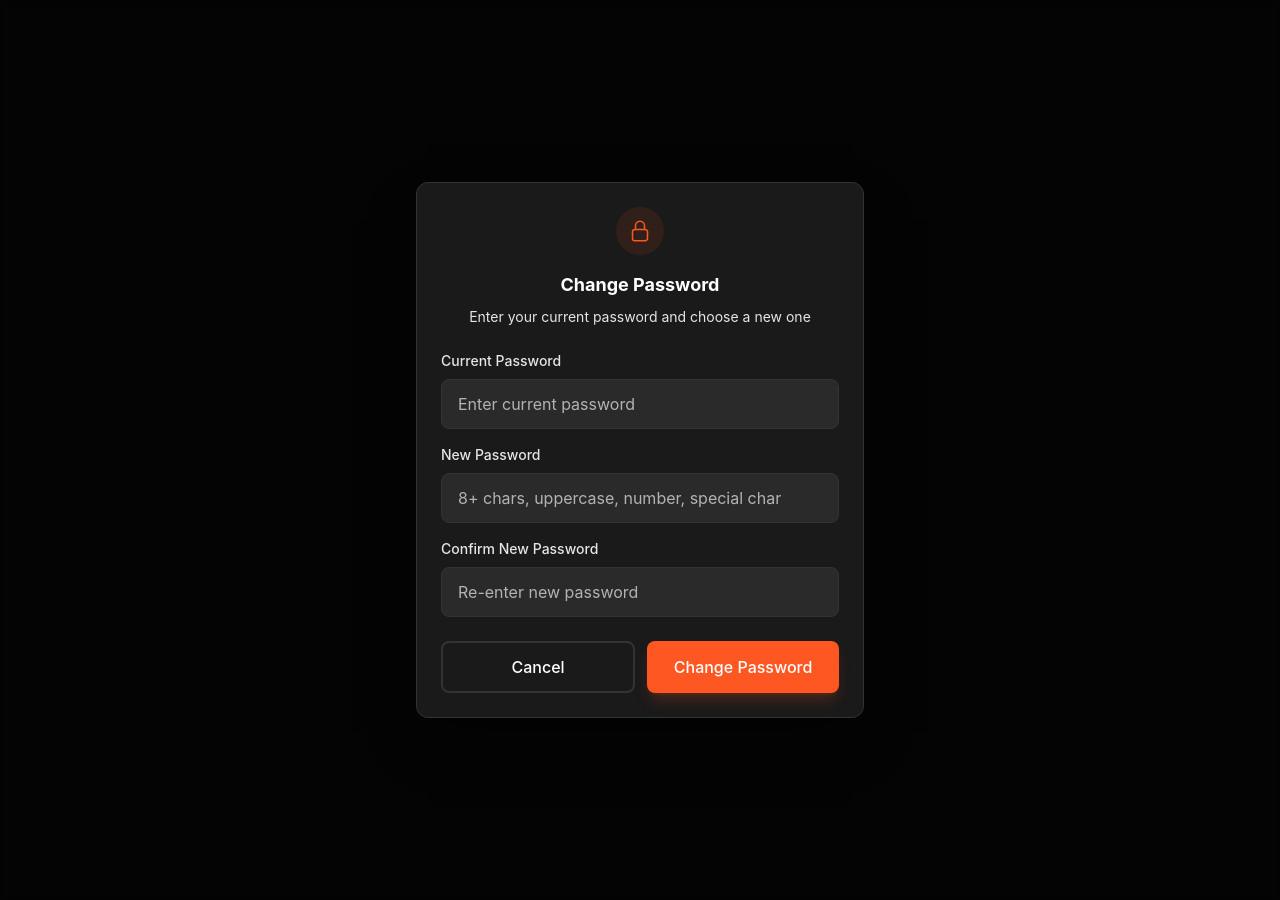
Test: ChangePasswordModal › shows validation error for password without uppercase
Step 1. Type "Password123!" into the password field labelled "Current Password" → (640, 404), box x1=441 y1=379 x2=839 y2=429
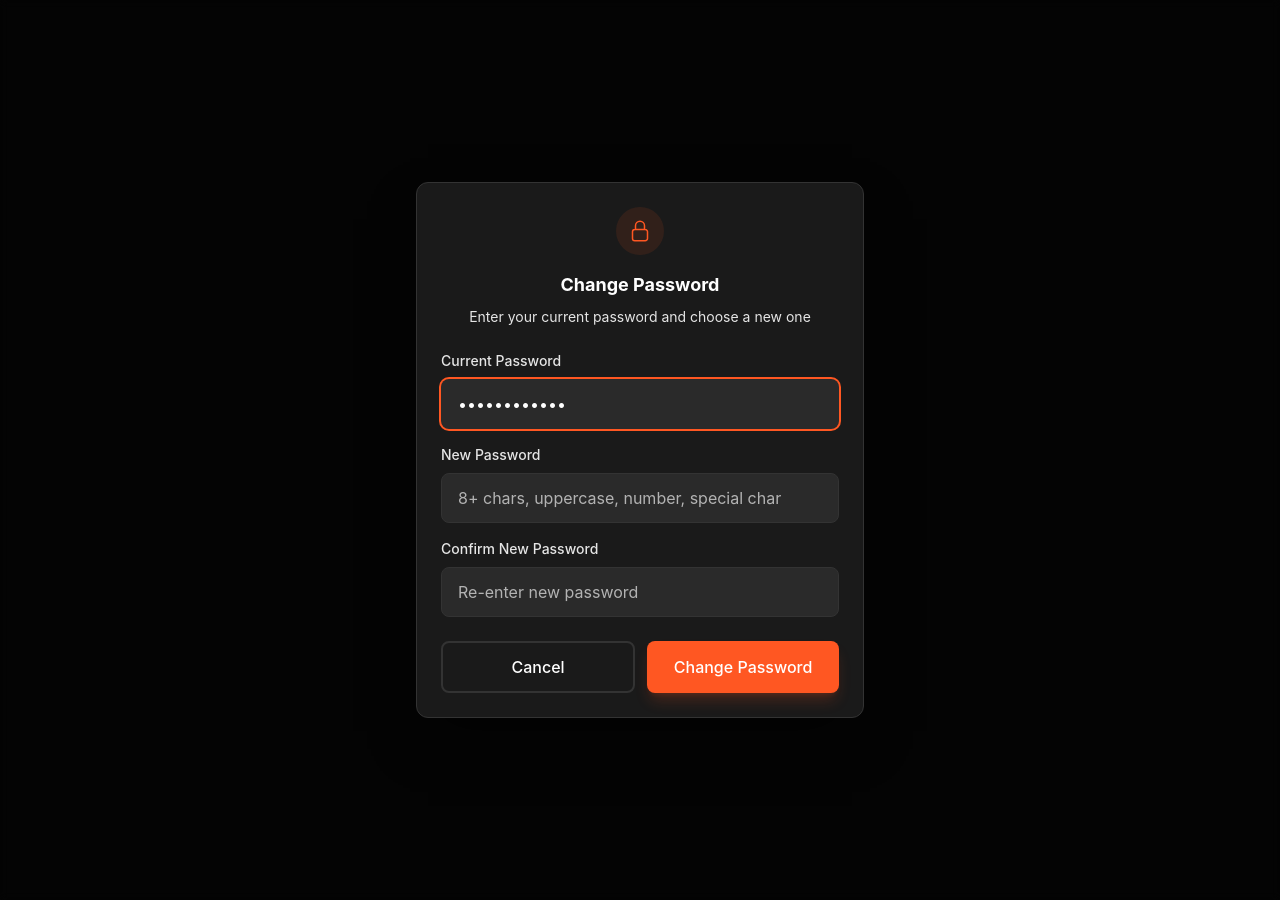
Step 2. Type "newpassword123!" into the password field labelled "New Password" → (640, 498), box x1=441 y1=473 x2=839 y2=523
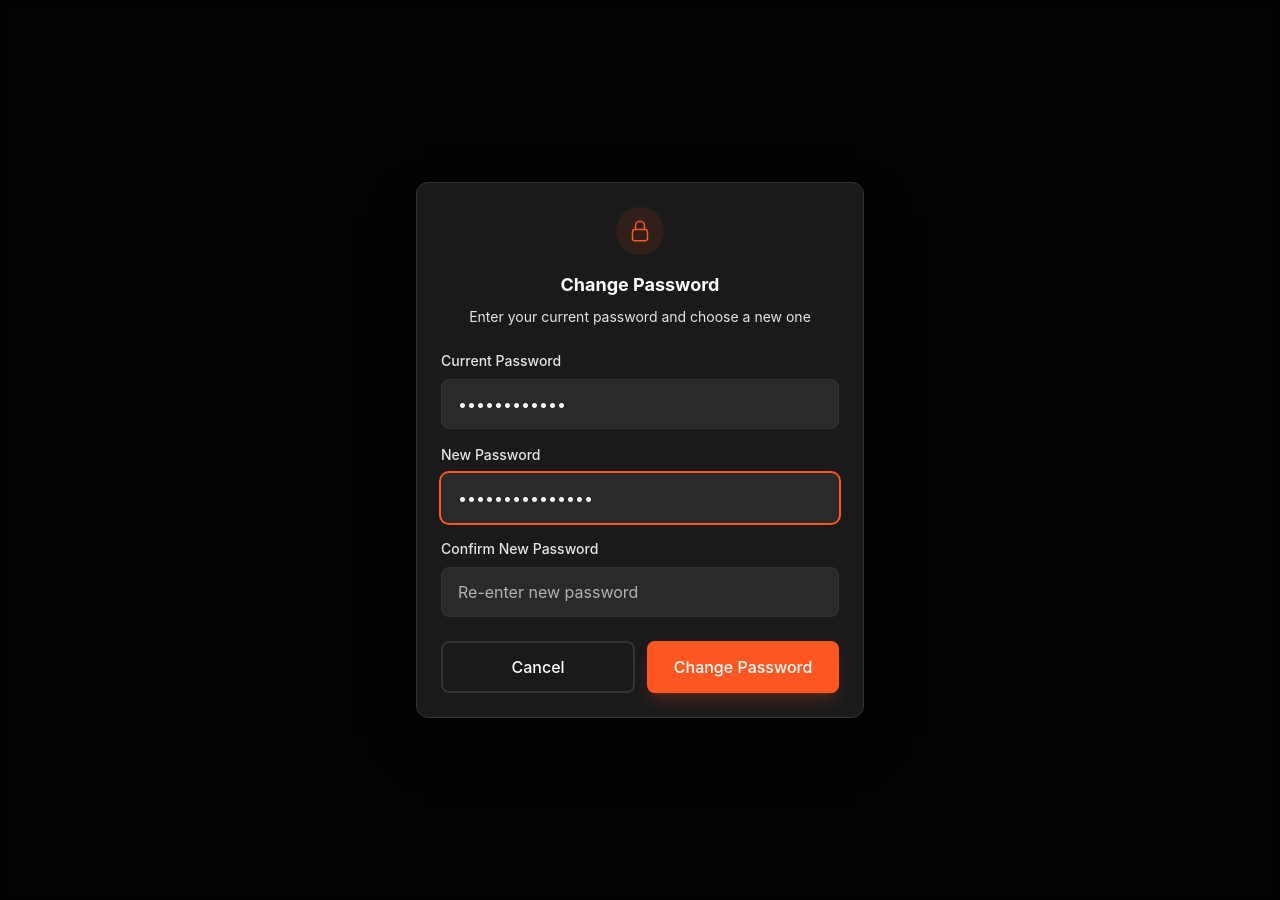
Step 3. Type "newpassword123!" into the password field labelled "Confirm New Password" → (640, 592), box x1=441 y1=567 x2=839 y2=617
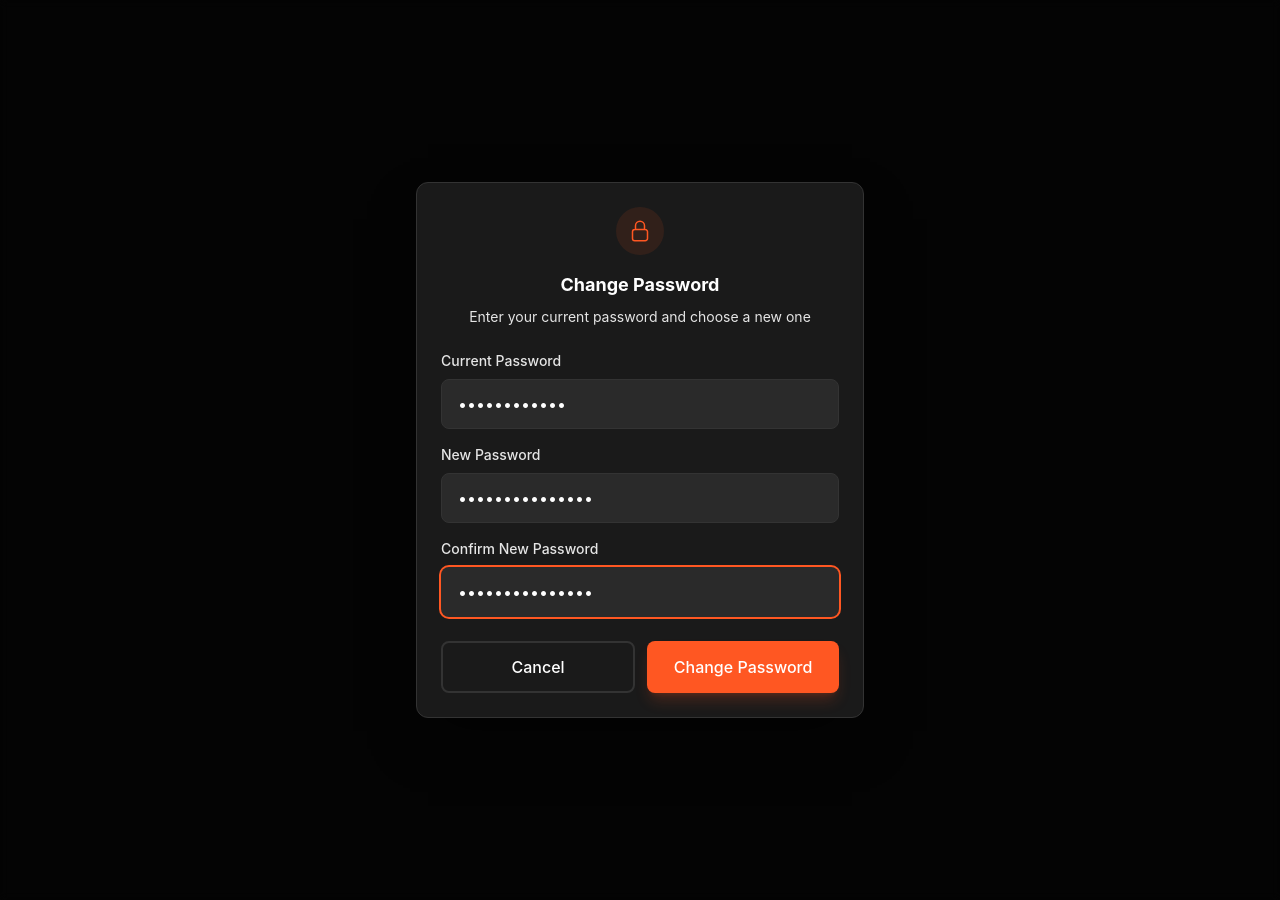
Step 4. Click the button "Change Password" → (743, 667), box x1=647 y1=641 x2=839 y2=693
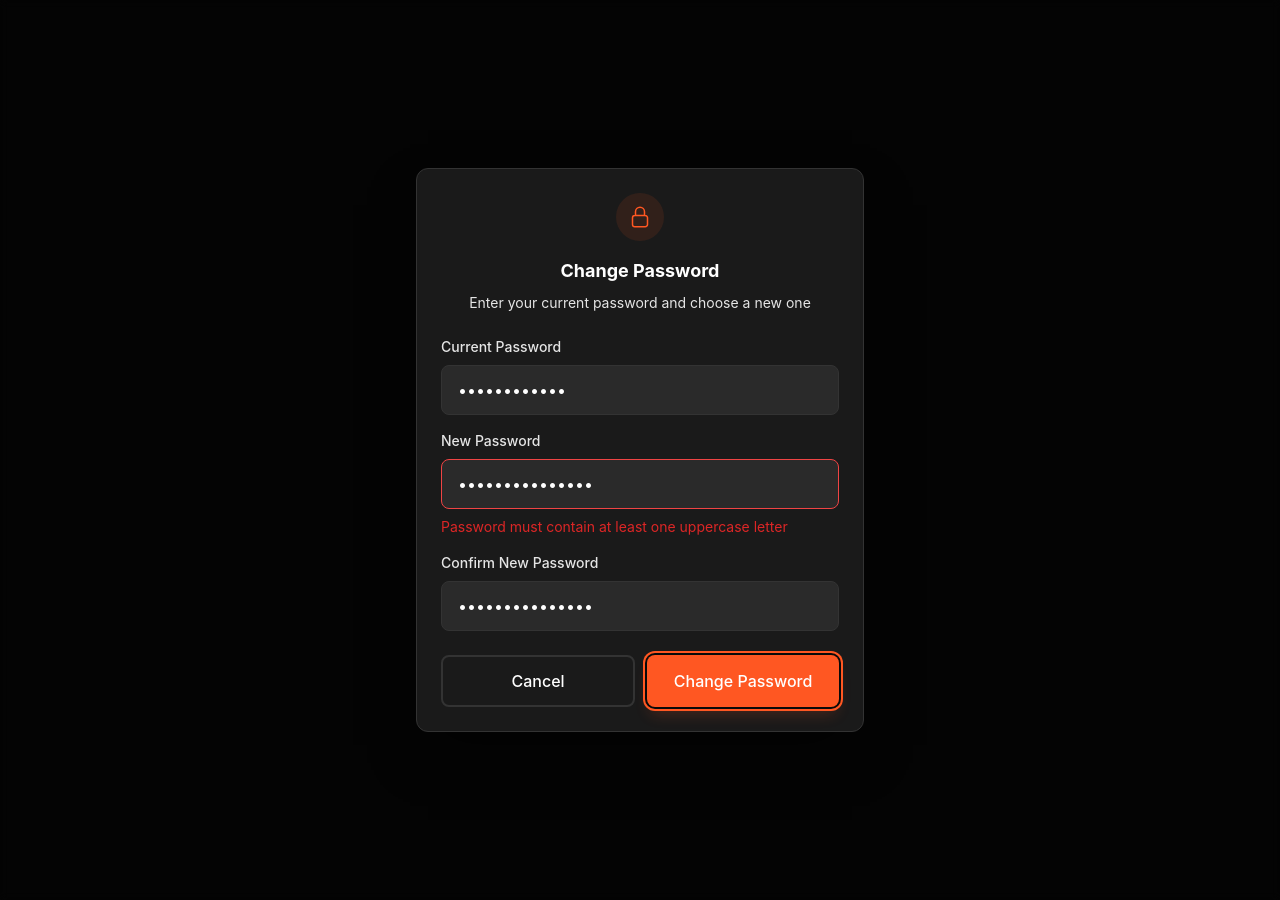
Expected: the text "Password must contain at least one uppercase letter" is shown, x1=441 y1=517 x2=839 y2=537
